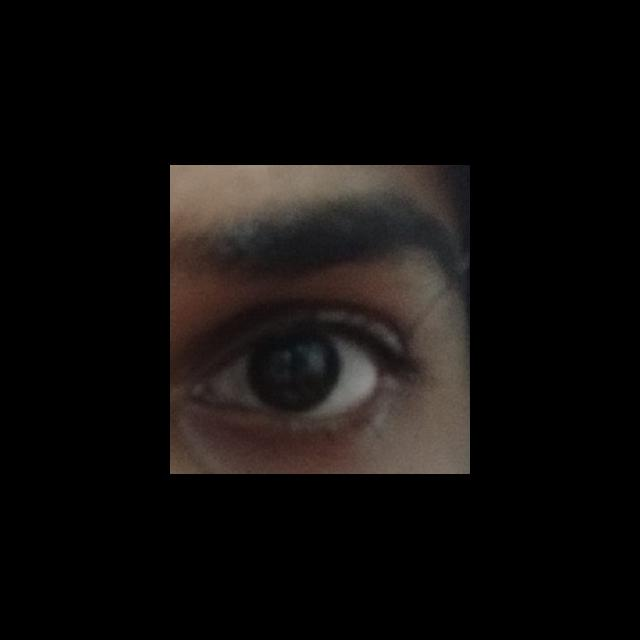eye: (209, 332, 381, 418)
iris: (249, 337, 339, 411)
